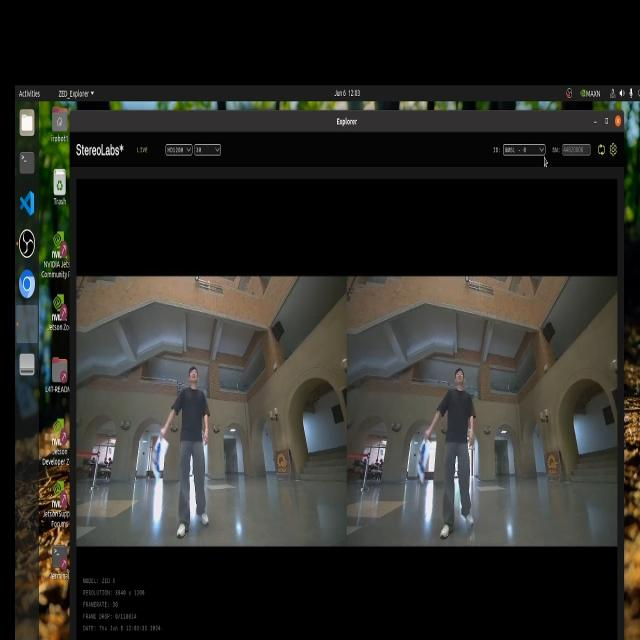blue: (147, 444, 166, 490), (416, 444, 434, 484)
